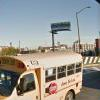Bus: (8, 46, 89, 100)
